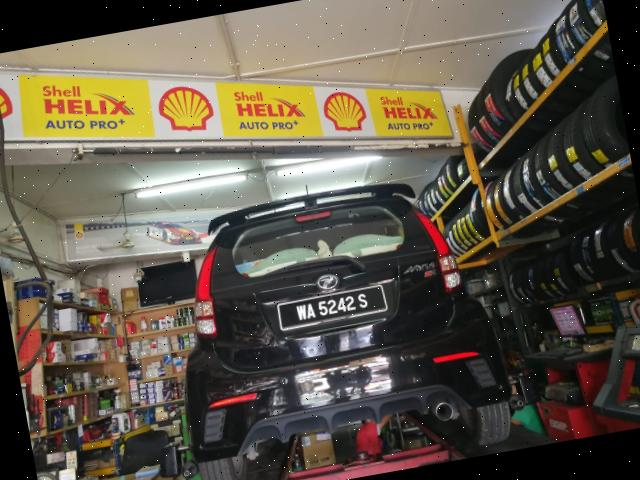License_Plate: (277, 284, 390, 332)
car: (153, 164, 527, 480)
